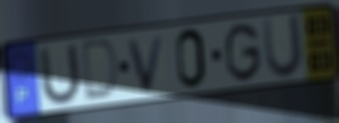0: (173, 27, 208, 91)
D: (82, 36, 122, 104)
G: (224, 21, 263, 84)
U: (260, 11, 305, 82), (38, 40, 83, 109)
V: (126, 33, 167, 95)
